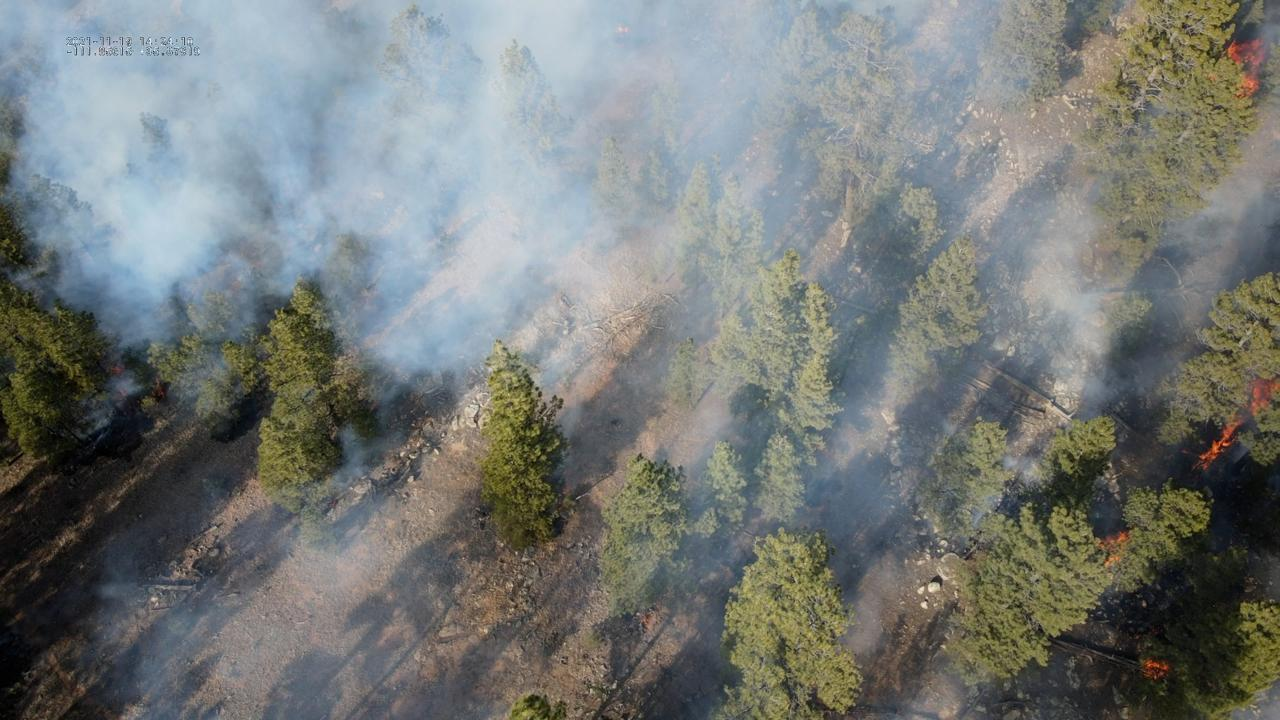fire: (1198, 372, 1280, 468), (1198, 37, 1269, 109), (1091, 527, 1132, 574), (151, 378, 167, 399), (1144, 659, 1170, 669), (110, 366, 124, 377)
smoke: (0, 0, 1134, 585), (62, 457, 498, 720), (1135, 166, 1280, 332), (1257, 24, 1280, 54)
